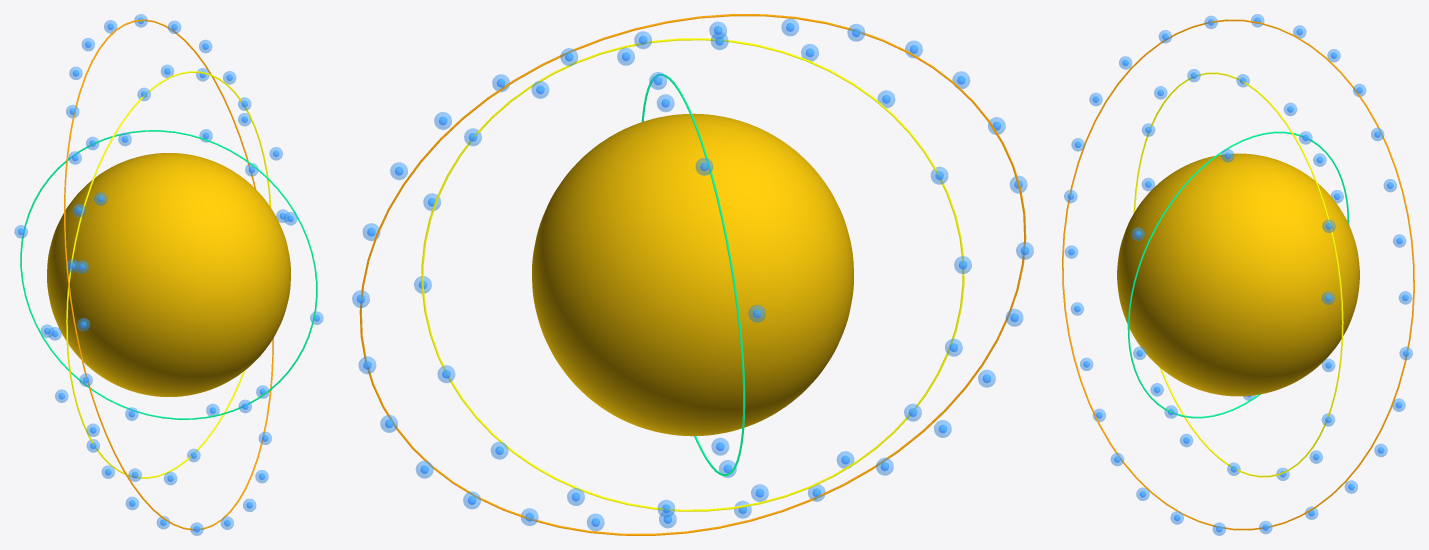
3 renders of one model, left to right at view 1: azimuth 30°, elevation 25°; view 2: azimuth 150°, elevation 25°; view 3: azimuth 270°, elevation 25°, orthographic. The views are drawn at different scales.
Visible parts, largest first — view 1: Ba, object 61, object 7, object 24; view 2: Ba, object 61, object 24, object 7; view 3: Ba, object 61, object 24, object 7.
Part boxes in pixels (<box>): Ba: <box>47,153,290,396</box>; object 61: <box>64,19,273,530</box>; object 7: <box>20,130,317,419</box>; object 24: <box>66,71,271,478</box>; Ba: <box>532,113,853,436</box>; object 61: <box>359,14,1026,535</box>; object 24: <box>421,38,964,511</box>; object 7: <box>641,73,745,476</box>; Ba: <box>1117,153,1359,396</box>; object 61: <box>1062,19,1414,530</box>; object 24: <box>1133,72,1343,477</box>; object 7: <box>1127,131,1349,418</box>.
Bounding box in the file's own units: 4.68 × 5.84 × 4.15.
